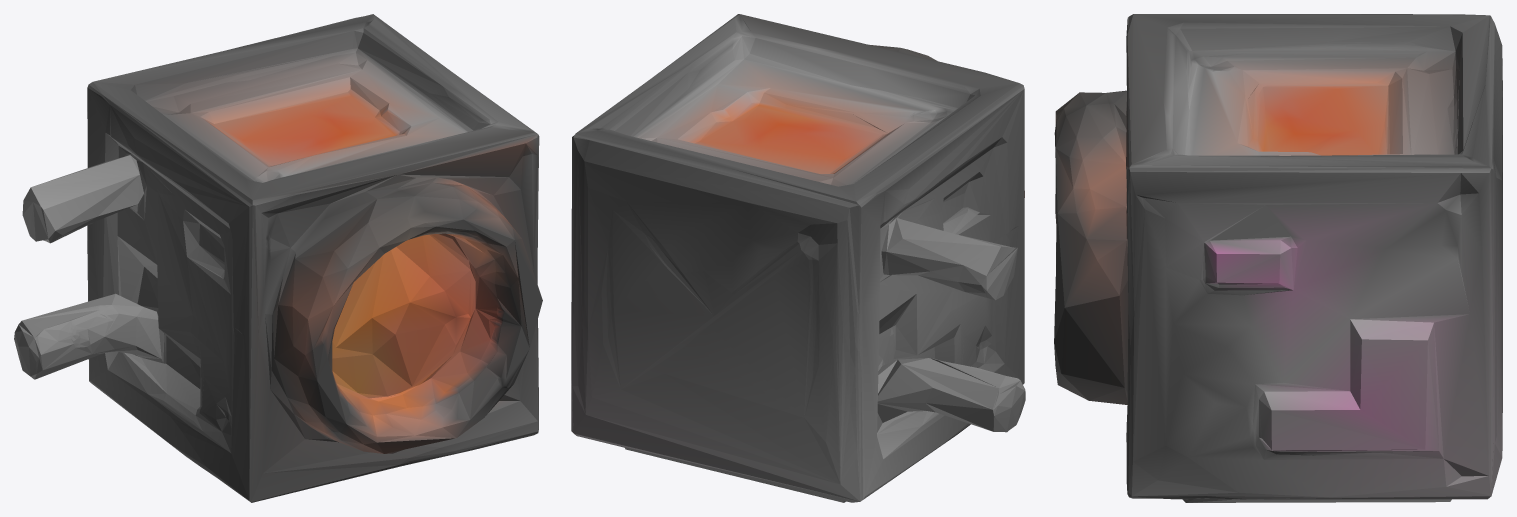
File: Reactor.glb
3 views of the same model, side by side, from view 1: azimuth 30°, elevation 25°; view 2: azimuth 150°, elevation 25°; view 3: azimuth 270°, elevation 25° (orthographic). The views are drawn at different scales.
Visible parts, largest first — view 1: Reactor; view 2: Reactor; view 3: Reactor.
Part boxes in pixels (left/top/right/bottom): Reactor: left=14, top=14, right=542, bottom=502; Reactor: left=571, top=14, right=1025, bottom=502; Reactor: left=1054, top=14, right=1502, bottom=502.
Bounding box in the file's own units: 2.85 × 2.16 × 2.4.
